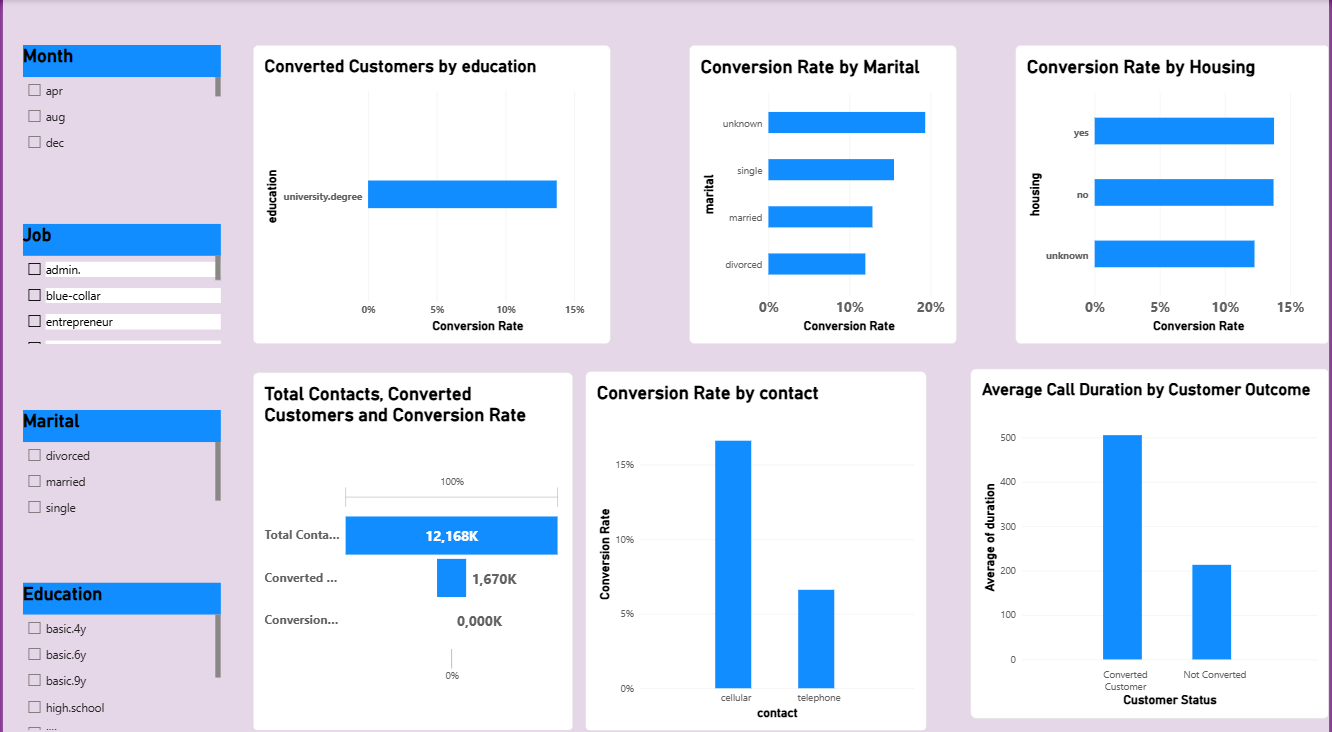

Layout of this report page (visuals, bound fields, positions):
{"tool":"powerbi","page":{"name":"Page 2","canvas":[1920,1080],"ordinal":1},"visuals":[{"type":"clusteredBarChart","title":"Converted Customers by education","fields":{"Category":["bank-additional-full.education"],"Y":["bank-additional-full.Conversion Rate"]},"box":[361.4,64.9,517.2,432.8],"z":0},{"type":"clusteredBarChart","title":"Conversion Rate by Marital","fields":{"Category":["bank-additional-full.marital"],"Y":["bank-additional-full.Conversion Rate"]},"box":[993.3,64.9,387.4,432.8],"z":1000},{"type":"clusteredBarChart","title":"Conversion Rate by Housing","fields":{"Category":["bank-additional-full.housing"],"Y":["bank-additional-full.Conversion Rate"]},"box":[1465.1,64.9,454.5,432.8],"z":2000},{"type":"funnel","fields":{"Y":["bank-additional-full.Total Contacts","bank-additional-full.Converted Customers","bank-additional-full.Conversion Rate"]},"box":[361.4,538.9,463.1,519.4],"z":3000},{"type":"clusteredColumnChart","title":"Conversion Rate by contact","fields":{"Category":["bank-additional-full.contact"],"Y":["bank-additional-full.Conversion Rate"]},"box":[844,536.7,493.4,521.6],"z":3001},{"type":"clusteredColumnChart","title":"Average Call Duration by Customer Outcome","fields":{"Category":["bank-additional-full.Customer Status"],"Y":["Avg(bank-additional-full.duration)"]},"box":[1400.2,534.5,519.4,506.4],"z":3002},{"type":"slicer","title":"Month","fields":{"Values":["bank-additional-full.month"]},"box":[28.1,64.9,286.2,149.7],"z":3003},{"type":"slicer","title":"Job","fields":{"Values":["bank-additional-full.job"]},"box":[28.1,324.6,286.2,173.9],"z":3004},{"type":"slicer","title":"Marital","fields":{"Values":["bank-additional-full.marital"]},"box":[28.1,593,286.2,160.7],"z":3005},{"type":"slicer","title":"Education","fields":{"Values":["bank-additional-full.education"]},"box":[28.6,843.1,286.2,213.5],"z":3006}]}

Visuals, with their boxes in screenshot pixels (x1, y1, x2, y2), scaled from the page's 1920x1080 canvas onto the 1332x732 screenshot:
"Converted Customers by education" clusteredBarChart: 251/44/610/337
"Conversion Rate by Marital" clusteredBarChart: 689/44/958/337
"Conversion Rate by Housing" clusteredBarChart: 1016/44/1331/337
funnel - bank-additional-full.Total Contacts x bank-additional-full.Converted Customers: 251/365/572/717
"Conversion Rate by contact" clusteredColumnChart: 586/364/928/717
"Average Call Duration by Customer Outcome" clusteredColumnChart: 971/362/1331/705
"Month" slicer: 19/44/218/145
"Job" slicer: 19/220/218/338
"Marital" slicer: 19/402/218/511
"Education" slicer: 20/571/218/716
